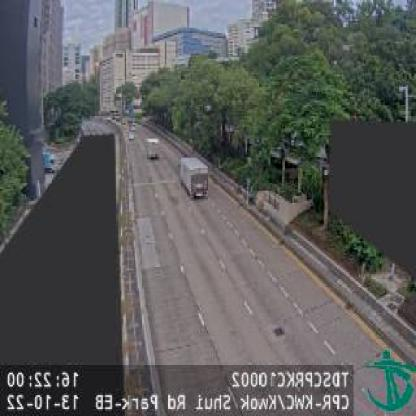Truck: (178, 153, 210, 202), (145, 136, 161, 160)
